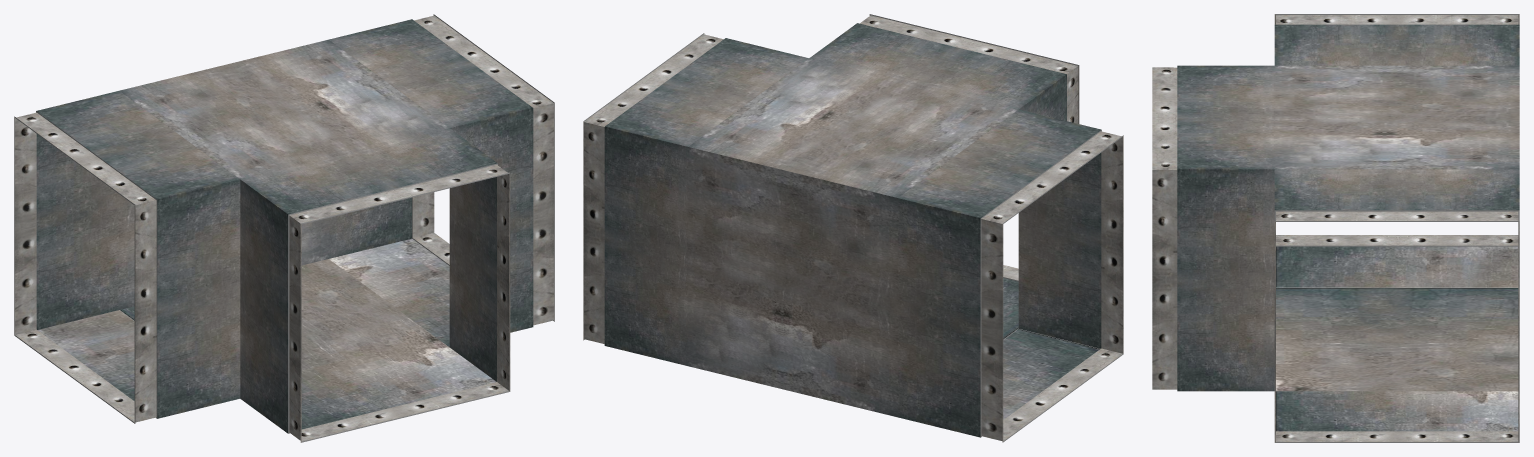
Rendered from vent03.fbx.
3 views of the same model, side by side, from view 1: azimuth 30°, elevation 25°; view 2: azimuth 150°, elevation 25°; view 3: azimuth 270°, elevation 25° (orthographic).
Parts seen in each view (by area): view 1: polySurface1; view 2: polySurface1; view 3: polySurface1.
Boxes of the visible parts, x1=… form: polySurface1: x1=14, y1=14, x2=554, y2=442; polySurface1: x1=583, y1=14, x2=1123, y2=442; polySurface1: x1=1152, y1=14, x2=1519, y2=442.
Bounding box in the file's own units: 2 × 1 × 1.5.
